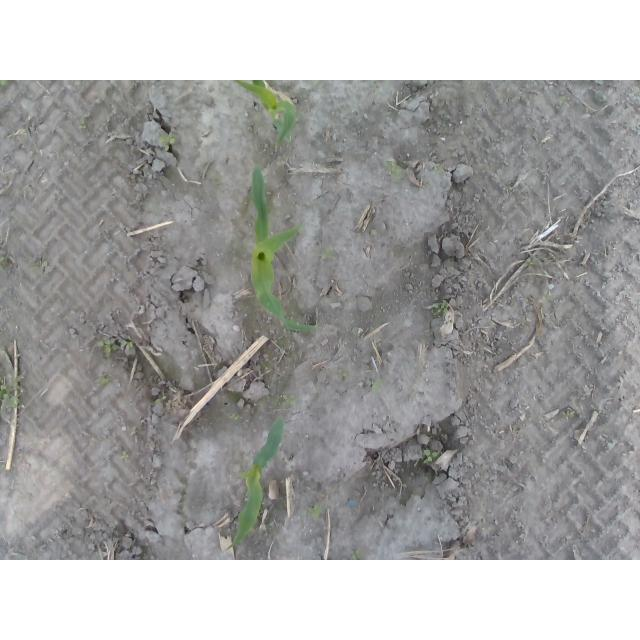Maize: (251, 167, 326, 338), (224, 415, 286, 552), (235, 80, 297, 149)
Weeds: (0, 378, 24, 411), (96, 339, 117, 358), (384, 162, 404, 180), (160, 132, 177, 153), (307, 504, 322, 520), (32, 260, 48, 273), (78, 116, 90, 133), (283, 395, 297, 409), (424, 450, 439, 463), (434, 302, 447, 317), (322, 246, 335, 260), (335, 368, 349, 380), (95, 377, 113, 386), (348, 550, 364, 560), (434, 164, 447, 176), (117, 341, 133, 350), (0, 250, 8, 266), (371, 377, 383, 387), (0, 81, 8, 88), (156, 398, 164, 403)
